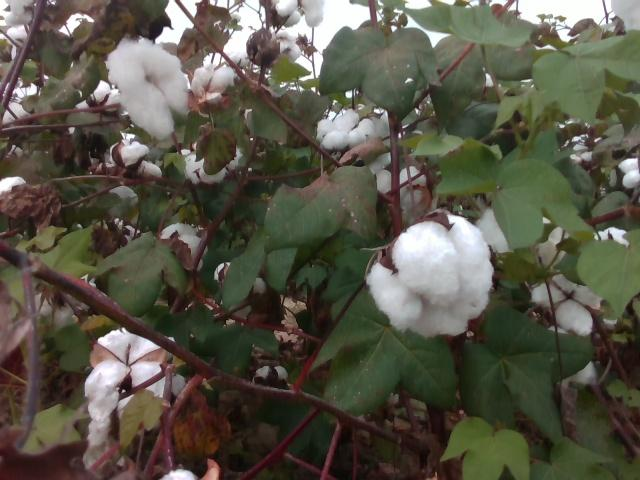cotton_ready: (367, 215, 494, 338), (88, 330, 165, 464), (108, 40, 189, 137), (529, 275, 606, 337), (316, 110, 393, 150)
